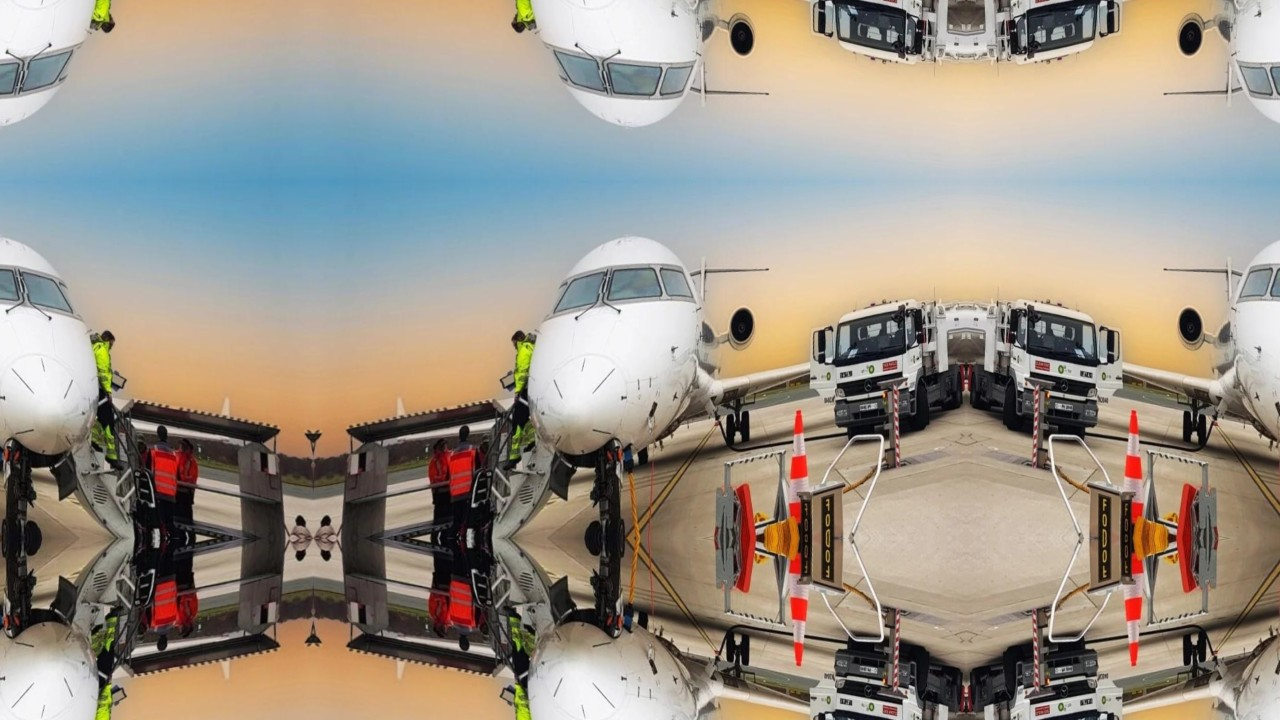chock: (714, 538, 779, 600), (1154, 538, 1219, 600), (714, 477, 779, 538), (1154, 477, 1219, 538), (773, 538, 815, 567), (1118, 538, 1160, 567), (773, 510, 815, 538), (1118, 510, 1160, 538)
wheel: (899, 381, 933, 433), (1000, 381, 1034, 433), (899, 644, 933, 696), (1000, 644, 1034, 696), (943, 367, 967, 409), (966, 367, 990, 409), (943, 668, 967, 710), (966, 668, 990, 710), (600, 511, 631, 539), (600, 538, 631, 566), (845, 420, 876, 445), (1057, 420, 1088, 445), (845, 632, 876, 657), (1057, 632, 1088, 657), (16, 538, 50, 560), (576, 538, 610, 560), (0, 511, 26, 539), (0, 538, 26, 566), (16, 517, 50, 538), (576, 517, 610, 538)
